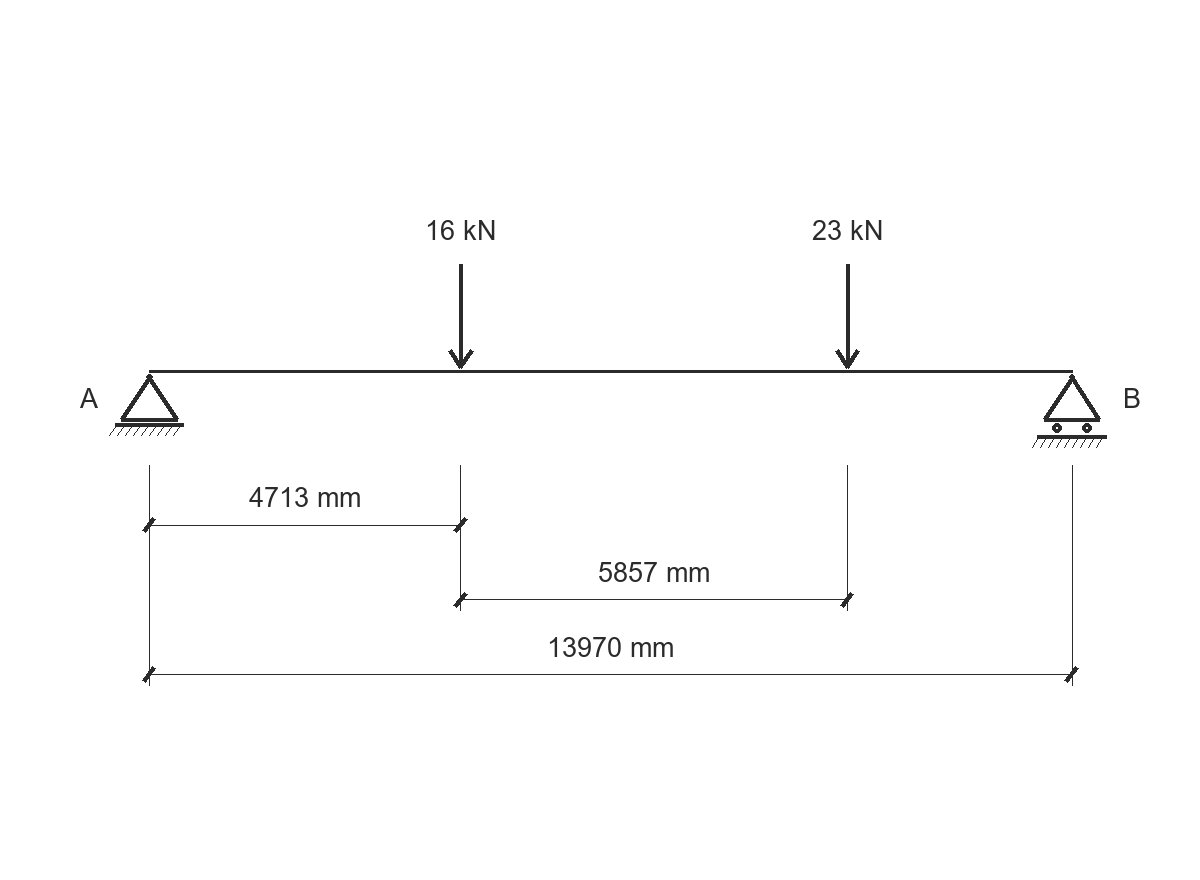pin_support: (109, 374, 184, 436)
point_load: (448, 264, 474, 369), (835, 264, 860, 369)
roller_support: (1032, 374, 1107, 448)
